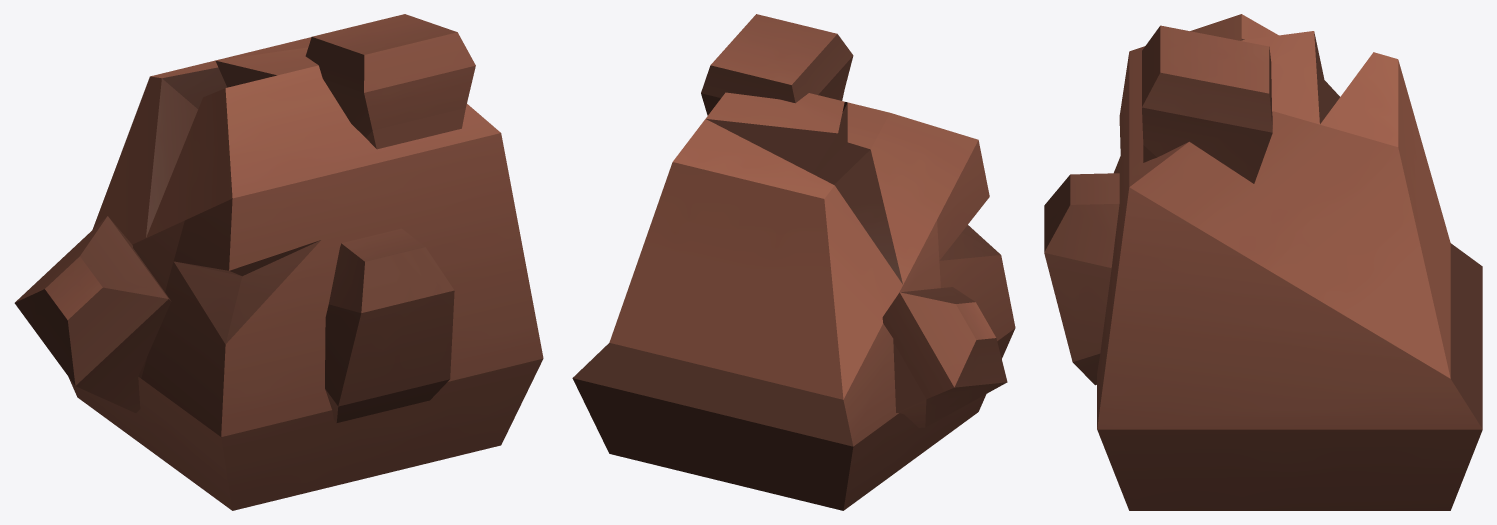
The model's file is rockMed.fbx.
3 renders of one model, left to right at view 1: azimuth 30°, elevation 25°; view 2: azimuth 150°, elevation 25°; view 3: azimuth 270°, elevation 25°, orthographic. The views are drawn at different scales.
Parts seen in each view (by area): view 1: polySurface2; view 2: polySurface2; view 3: polySurface2.
Part boxes in pixels (x1,y1,x2,y2): polySurface2: [14, 14, 543, 510]; polySurface2: [572, 14, 1015, 510]; polySurface2: [1044, 14, 1482, 510].
Size of the model in its own units: 1.45 by 1.46 by 1.36.
